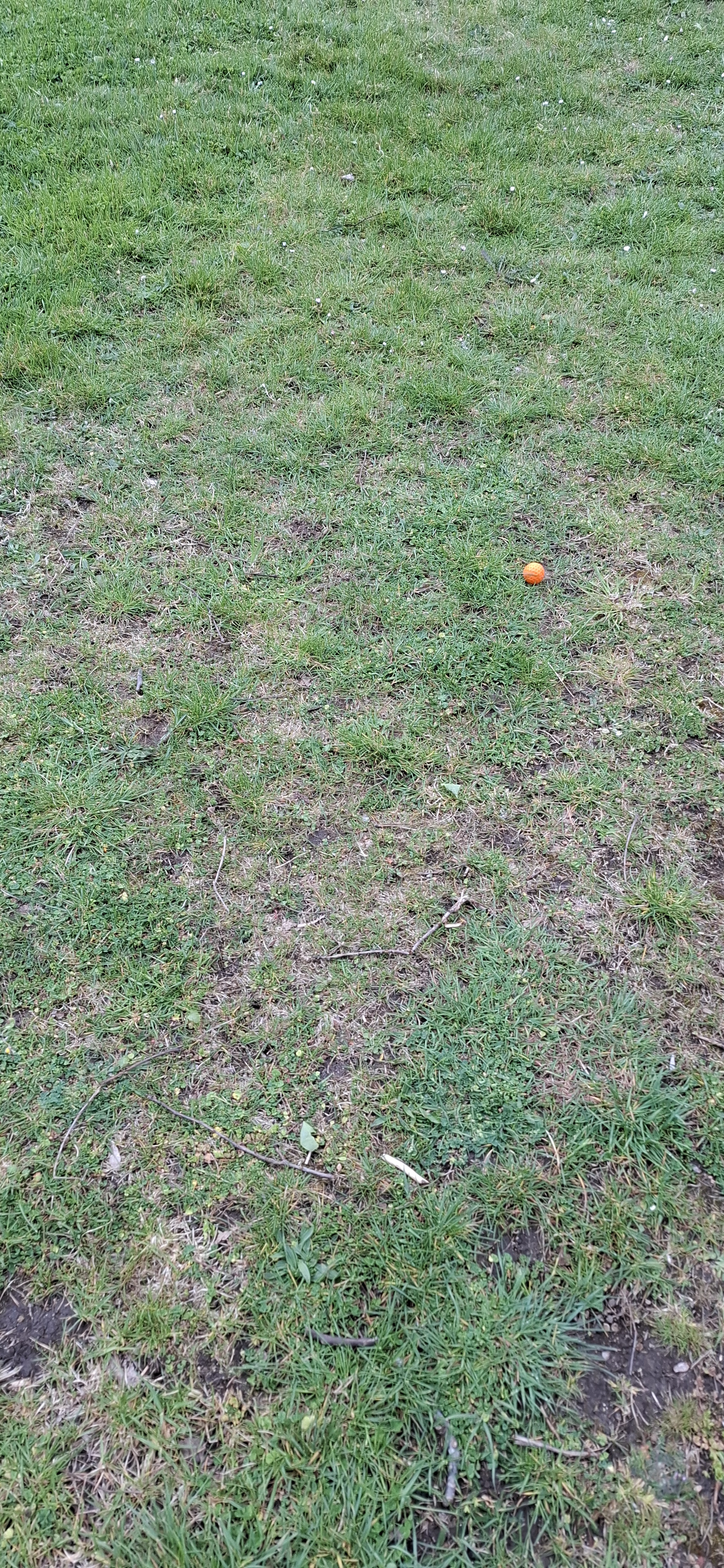ball: (259, 388, 270, 435)
